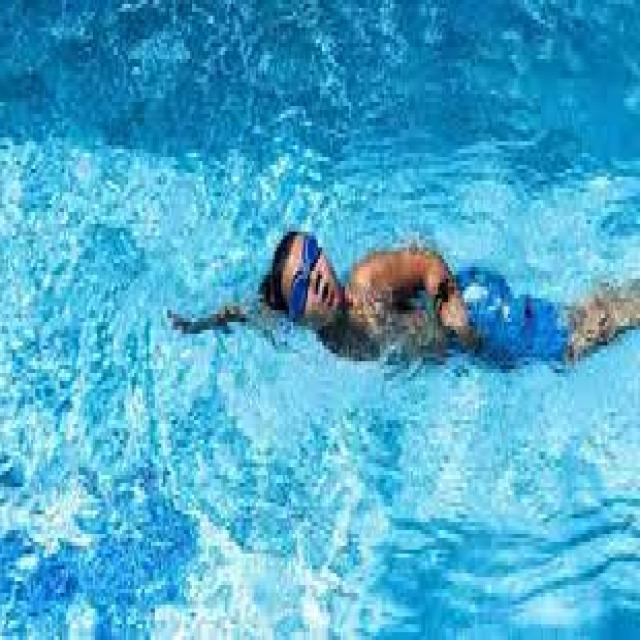Swimming: (175, 230, 640, 369)
